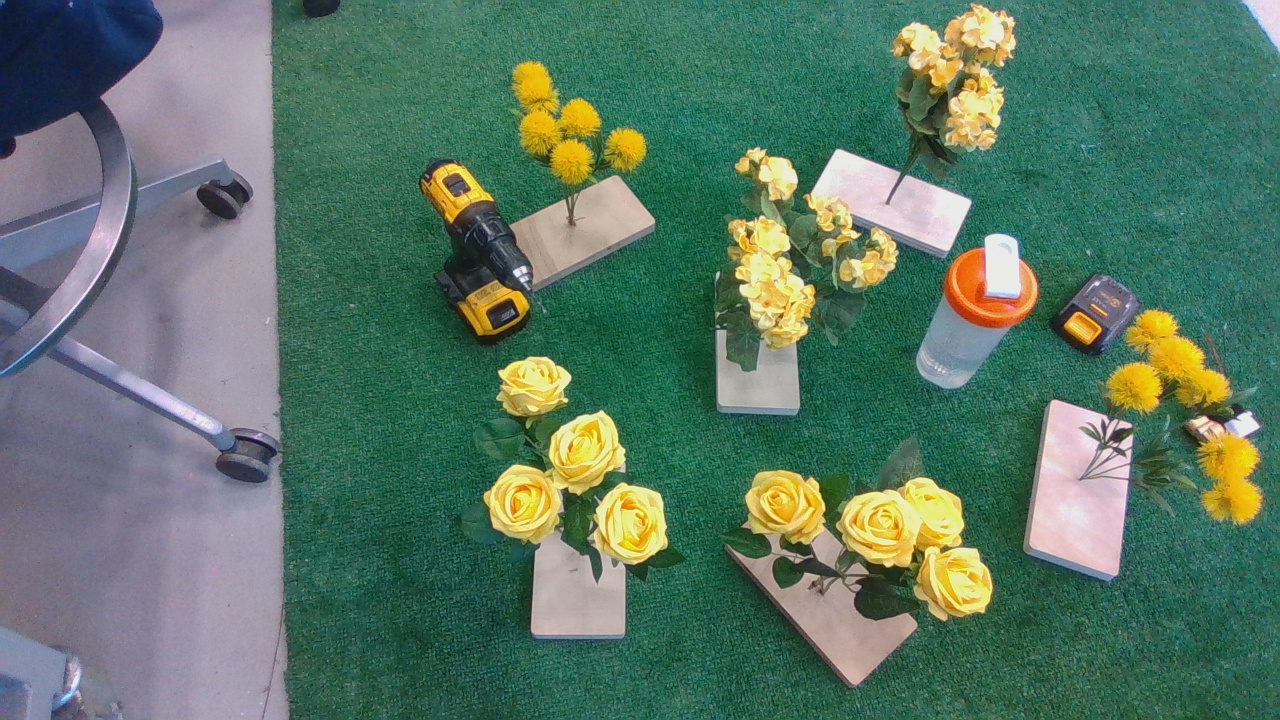dandelion: (1103, 312, 1277, 548), (505, 56, 661, 205)
geranium: (704, 151, 907, 381), (892, 5, 1022, 194)
rose: (710, 431, 1008, 633), (461, 350, 701, 586)
